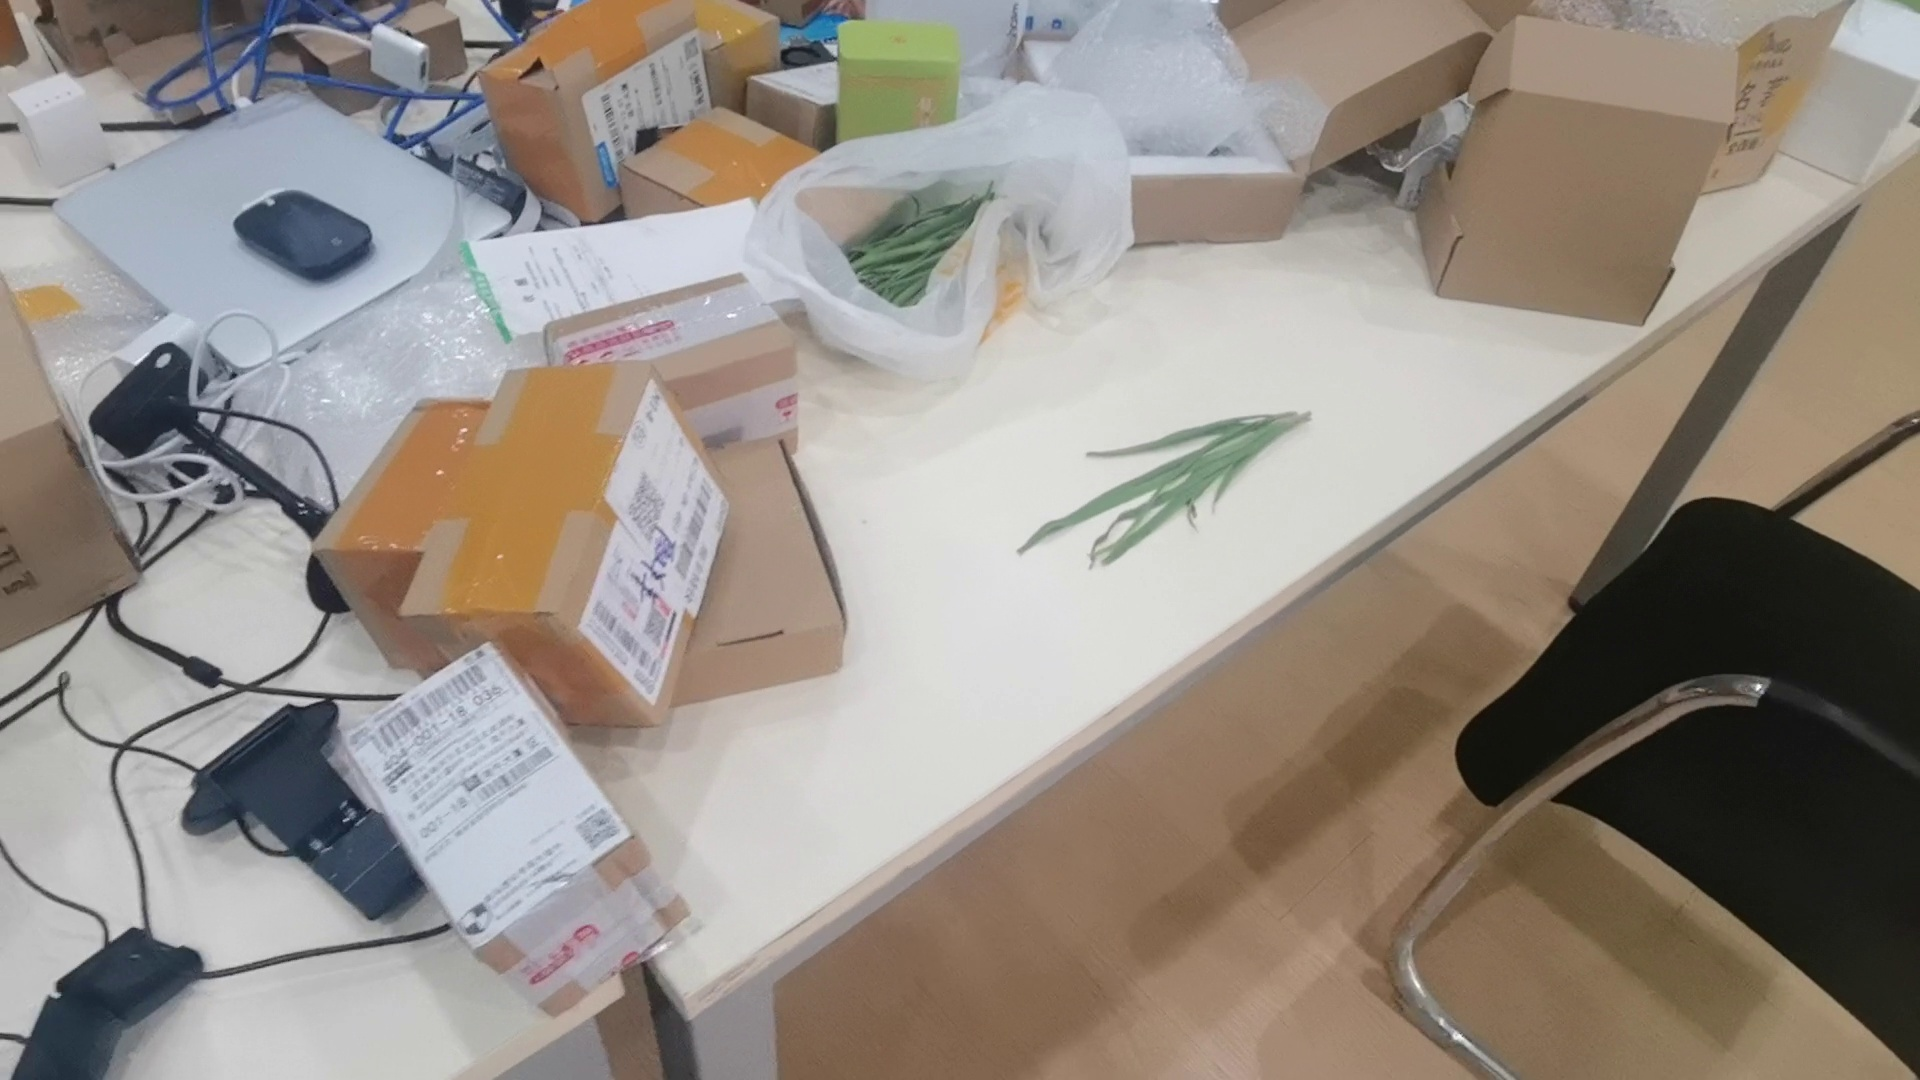chives: (1002, 409, 1312, 568)
